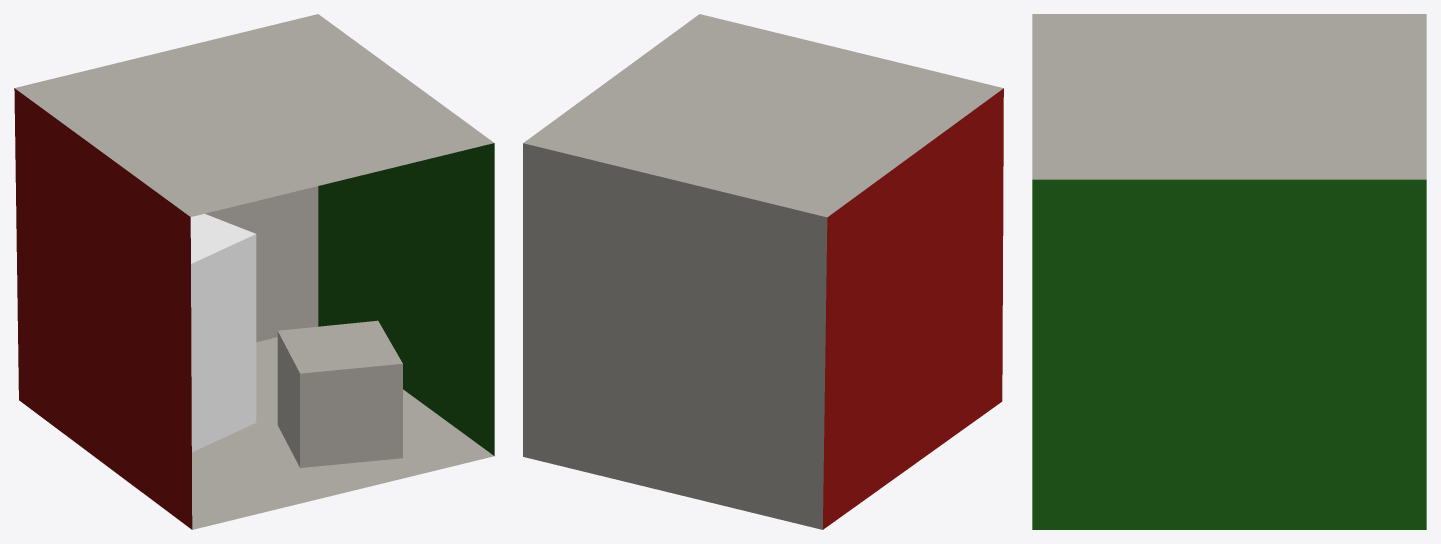
The model's file is mirror_box.obj.
The picture shows the model from 3 angles, left to right: view 1: azimuth 30°, elevation 25°; view 2: azimuth 150°, elevation 25°; view 3: azimuth 270°, elevation 25°; orthographic projection. The views are drawn at different scales.
Visible parts, largest first — view 1: CornellBox-Mirror; view 2: CornellBox-Mirror; view 3: CornellBox-Mirror.
Part boxes in pixels (left/top/right/bottom): CornellBox-Mirror: left=14, top=14, right=494, bottom=529; CornellBox-Mirror: left=523, top=14, right=1003, bottom=529; CornellBox-Mirror: left=1032, top=14, right=1426, bottom=529.
Size of the model in its own units: 2.02 by 1.99 by 2.03.
